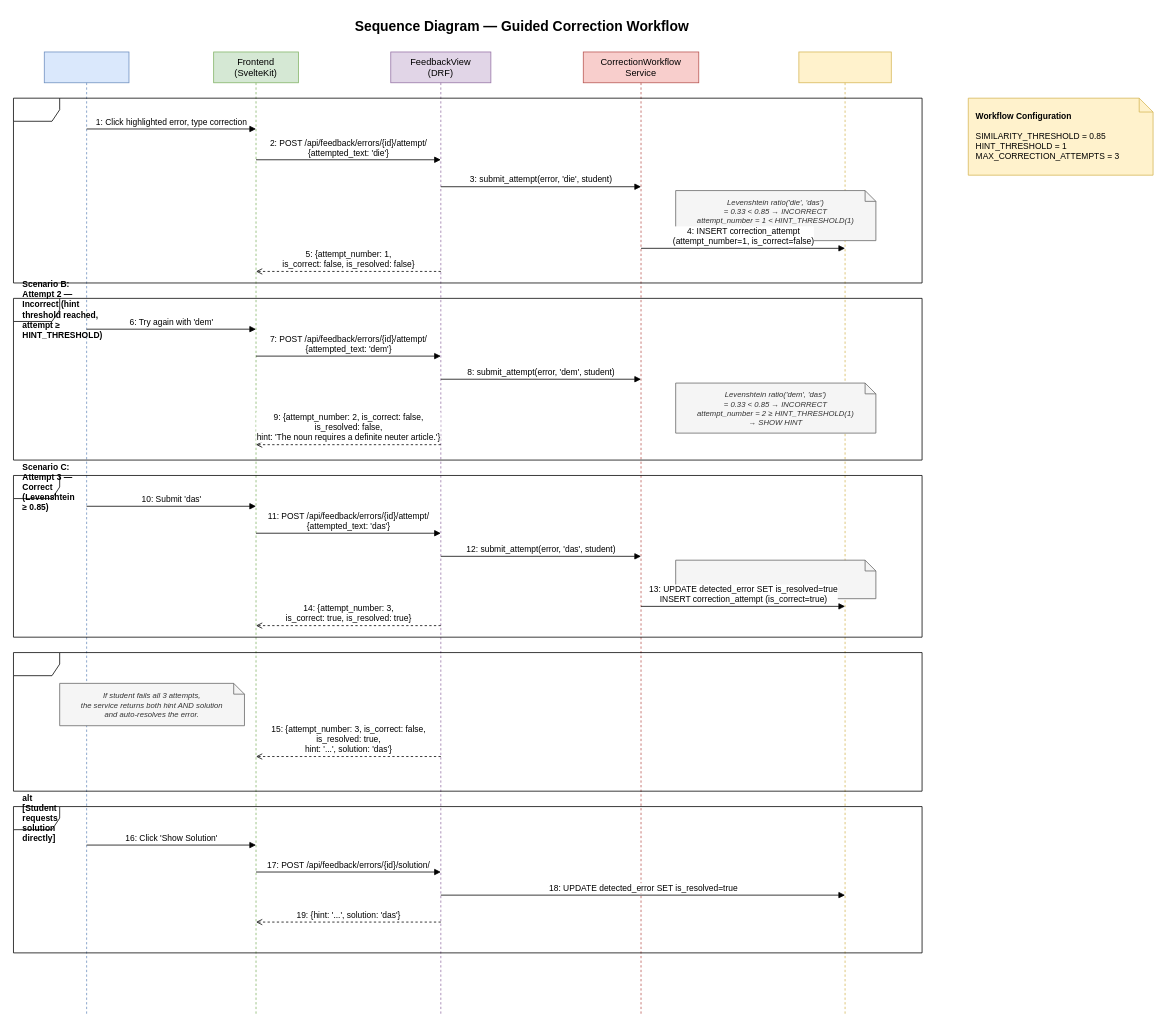
Some shapes in this 1167 by 1028 pixel diagram are drawn without their labels. Each missing label, with the box of its shape:
Database (PostgreSQL): (798, 51, 891, 1014)
Levenshtein ratio('das', 'das') = 1.0 ≥ 0.85 → CORRECT Mark error as resolved: (675, 559, 876, 599)
Scenario A: Attempt 1 — Incorrect (below hint threshold): (13, 97, 922, 283)
Scenario D: Max Attempts — Solution Revealed (attempt ≥ MAX_CORRECTION_ATTEMPTS): (13, 652, 922, 791)
Student (Browser): (44, 51, 129, 1014)
